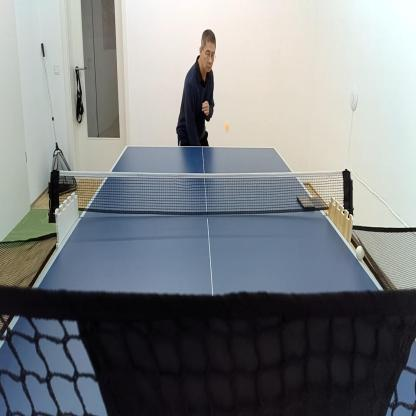Ball: (355, 244, 366, 261), (224, 119, 231, 132)
